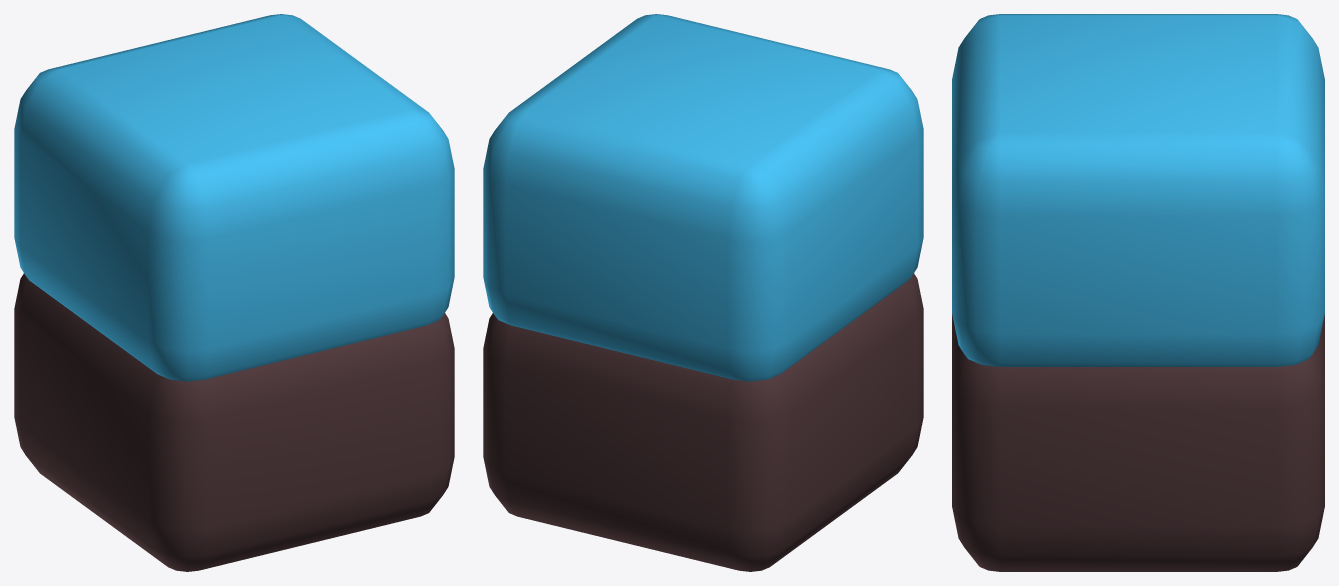
File: box_mini_blue.fbx
The picture shows the model from 3 angles, left to right: view 1: azimuth 30°, elevation 25°; view 2: azimuth 150°, elevation 25°; view 3: azimuth 270°, elevation 25°; orthographic projection. The views are drawn at different scales.
Visible parts, largest first — view 1: ChamferBox004, ChamferBox003; view 2: ChamferBox004, ChamferBox003; view 3: ChamferBox004, ChamferBox003.
Part boxes in pixels (left/top/right/bottom): ChamferBox004: left=14, top=14, right=454, bottom=381; ChamferBox003: left=14, top=273, right=454, bottom=571; ChamferBox004: left=483, top=14, right=923, bottom=381; ChamferBox003: left=483, top=273, right=923, bottom=571; ChamferBox004: left=952, top=14, right=1324, bottom=366; ChamferBox003: left=952, top=314, right=1324, bottom=571.
Bounding box in the file's own units: 11.48 × 14.88 × 11.48.
